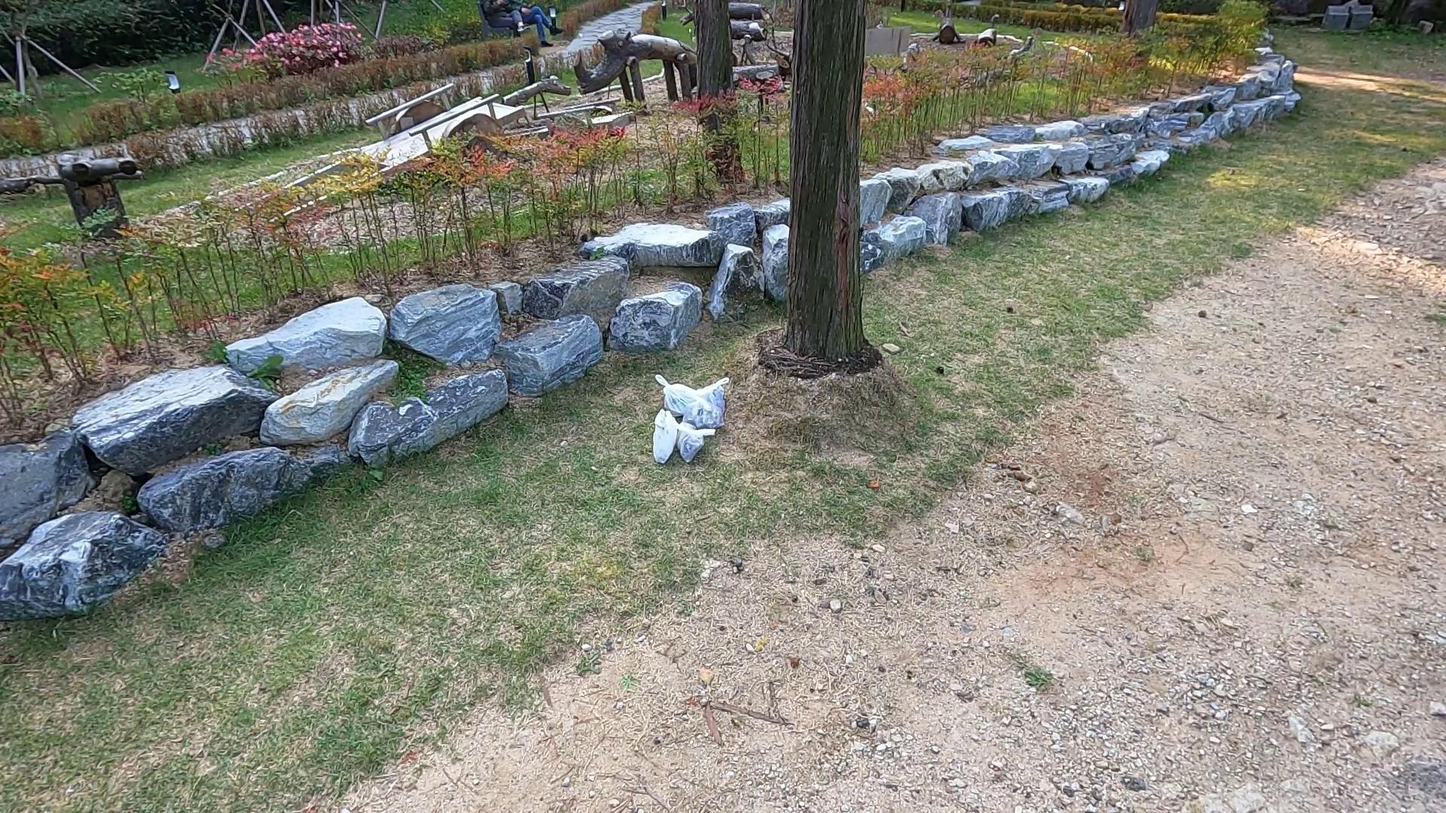trash: (658, 369, 705, 422), (679, 392, 724, 430), (674, 422, 717, 461), (648, 409, 677, 465), (693, 377, 731, 416)
